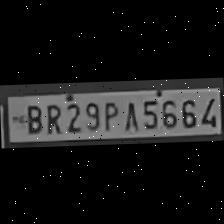2: (61, 99, 81, 132)
4: (197, 93, 217, 126)
5: (138, 94, 158, 128)
6: (178, 95, 196, 128), (158, 96, 176, 128)
9: (82, 97, 100, 130)
A: (120, 97, 138, 130)
B: (20, 100, 43, 134)
P: (99, 96, 119, 130)
R: (42, 99, 62, 133)
